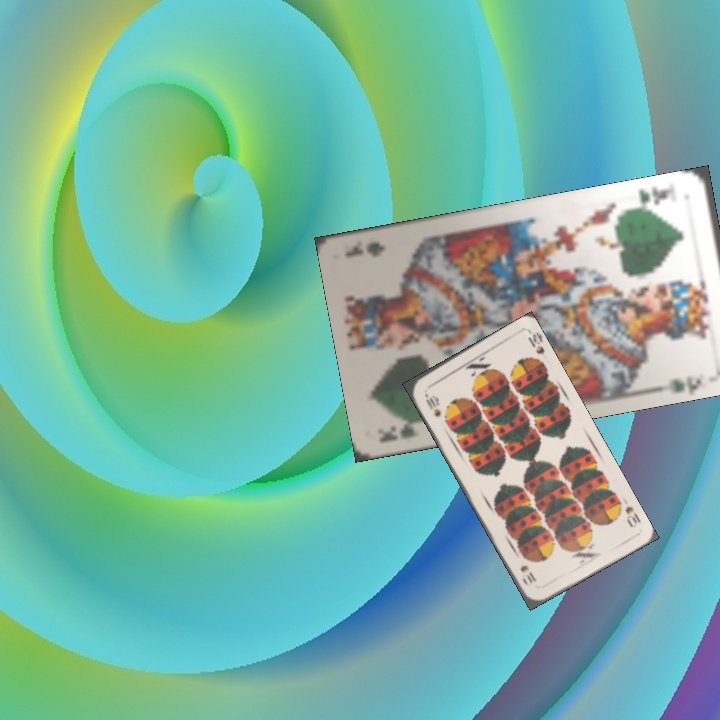GK: (629, 183, 674, 212), (375, 417, 418, 445)
S10: (421, 389, 444, 420), (621, 502, 643, 530)
